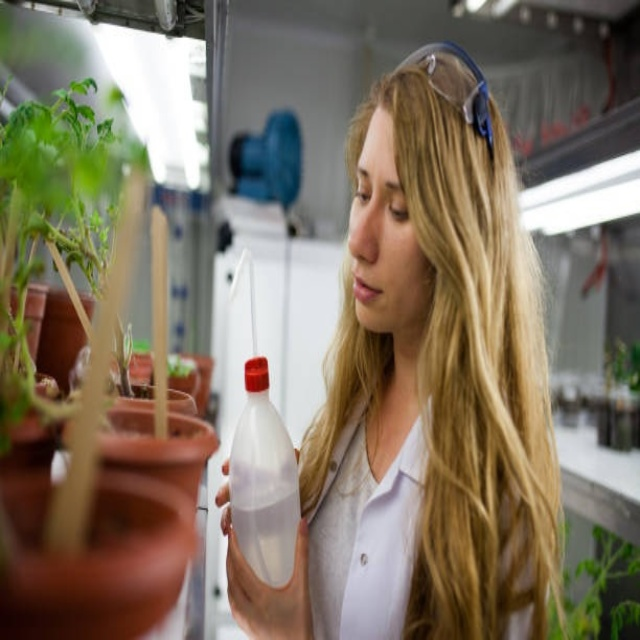Sin_gafas: (350, 154, 411, 235)
Sin_guantes: (219, 485, 310, 638)
Sin_mascara: (348, 254, 397, 331)
